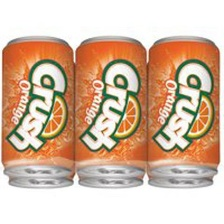can: (146, 31, 221, 179), (0, 34, 76, 179), (73, 34, 147, 180), (75, 173, 145, 192), (6, 175, 73, 192), (146, 175, 216, 190)
